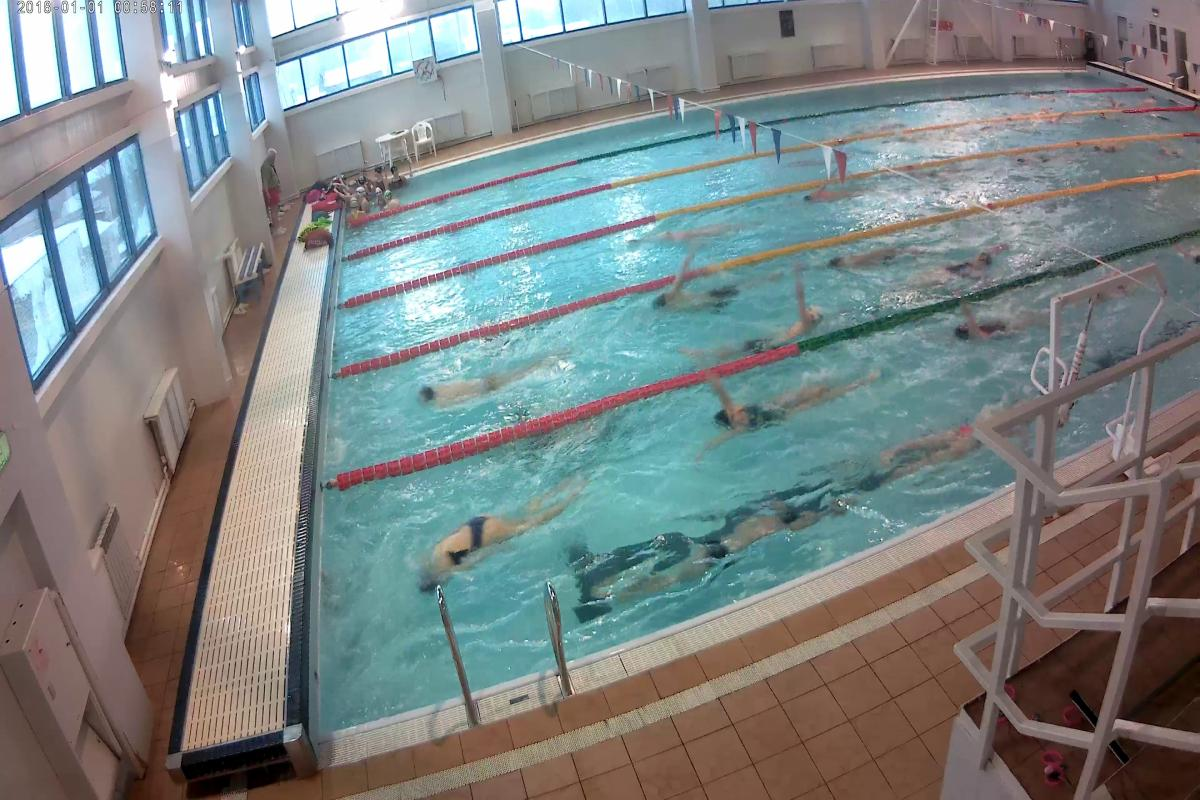swimmer: (634, 504, 824, 602), (437, 488, 575, 587), (714, 375, 875, 441), (400, 361, 556, 391), (920, 251, 1011, 293), (652, 274, 756, 308), (946, 305, 1029, 345), (822, 239, 925, 261), (808, 184, 897, 206), (640, 226, 746, 237), (1003, 152, 1058, 167), (1090, 135, 1126, 156), (1160, 136, 1190, 159)
